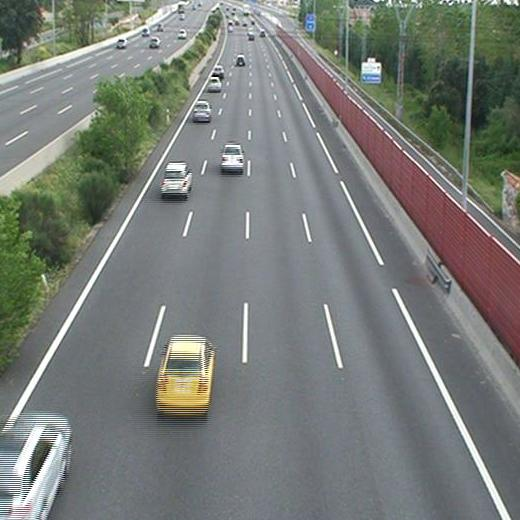car: (1, 415, 70, 520), (155, 337, 213, 410), (161, 164, 191, 195), (221, 145, 244, 171), (192, 101, 211, 120), (208, 78, 222, 91), (213, 66, 224, 77), (235, 56, 245, 66)
